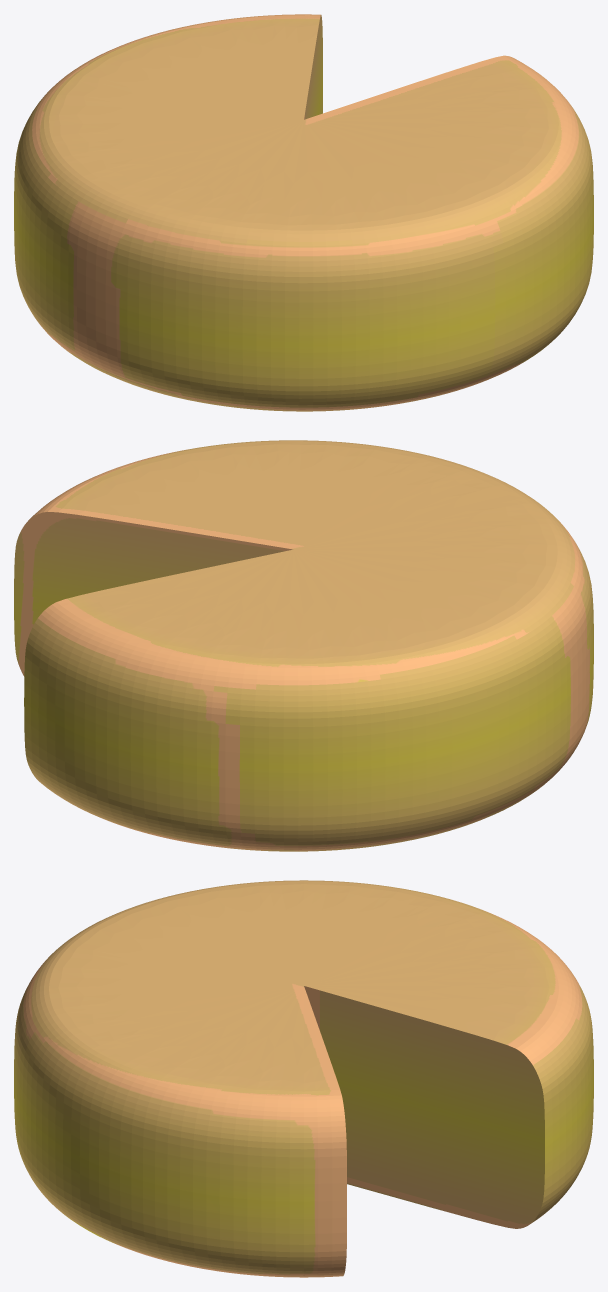
The picture shows the model from 3 angles, top to bottom: view 1: azimuth 30°, elevation 25°; view 2: azimuth 150°, elevation 25°; view 3: azimuth 270°, elevation 25°; orthographic projection. The views are drawn at different scales.
Parts seen in each view (by area): view 1: Cylinder; view 2: Cylinder; view 3: Cylinder.
Part boxes in pixels (x1,y1,x2,y2): Cylinder: [14, 14, 593, 411]; Cylinder: [14, 440, 593, 851]; Cylinder: [14, 880, 593, 1277].
Bounding box in the file's own units: 1.49 × 0.5278 × 1.49.
1 material, 1 textured.
